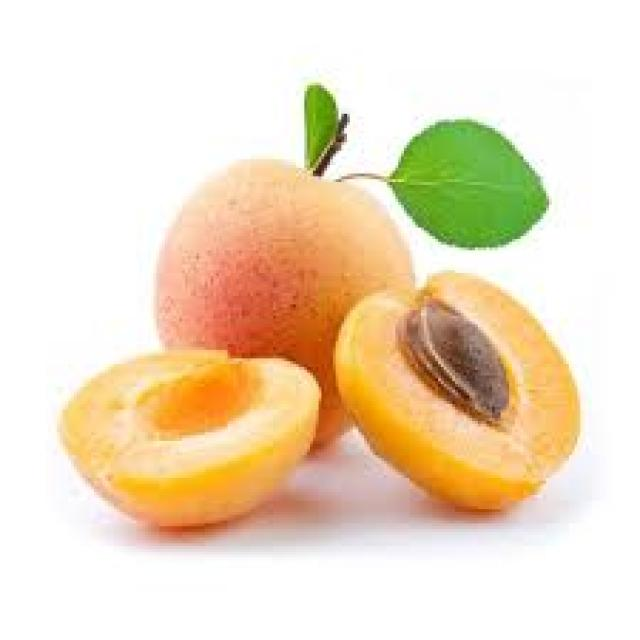cekirdek: (378, 295, 560, 451)
kayisi: (39, 342, 339, 552)
yaprak: (262, 79, 574, 249)
